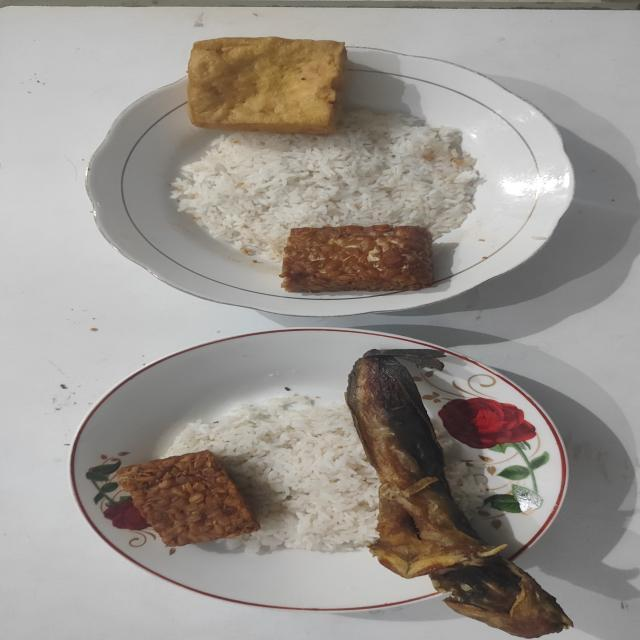nasi_putih: (170, 110, 484, 264), (165, 391, 378, 554)
tahu_goreng: (187, 37, 347, 134)
tempe_goreng: (117, 450, 260, 548), (280, 225, 434, 292)
